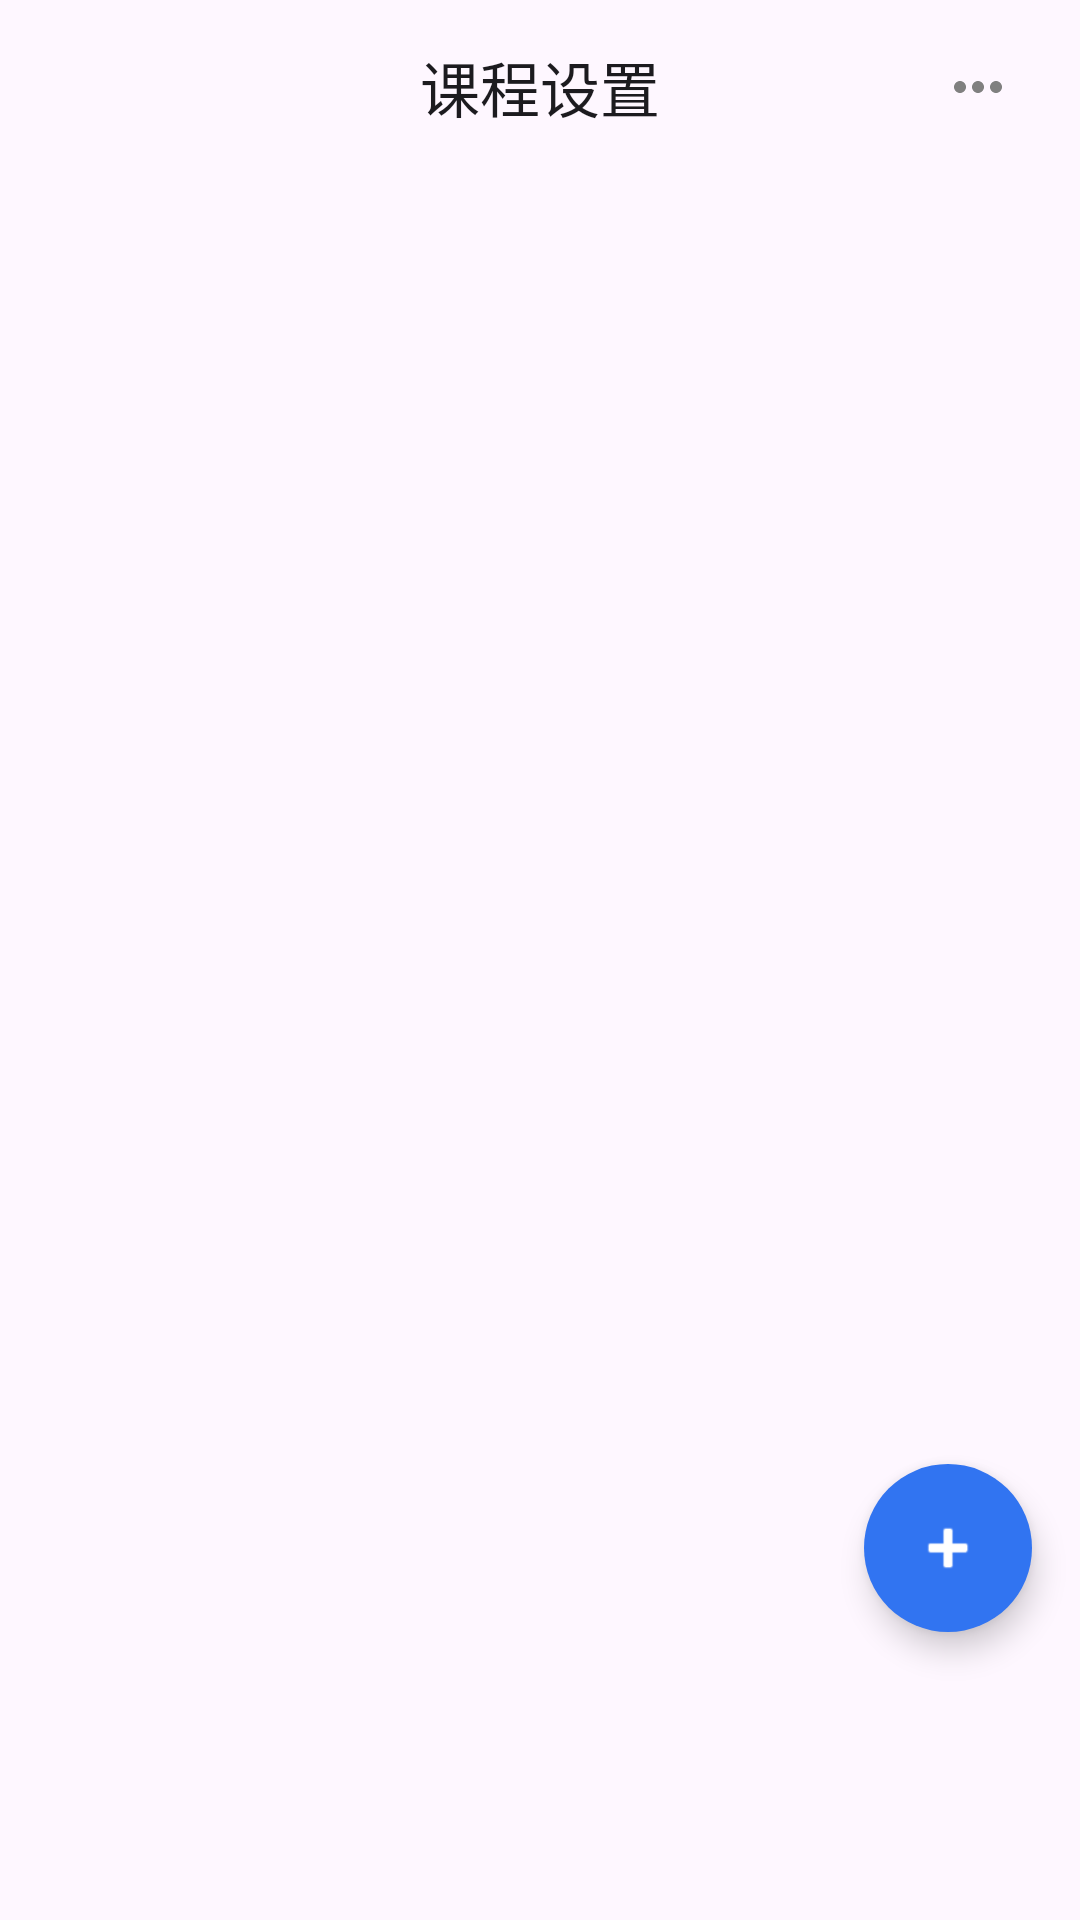

Icons on this 1080w x 1920h Android screen, each with the point to tap as (x=x, y=y):
more horiz: (x=978, y=87)
添加课程: (x=948, y=1548)
